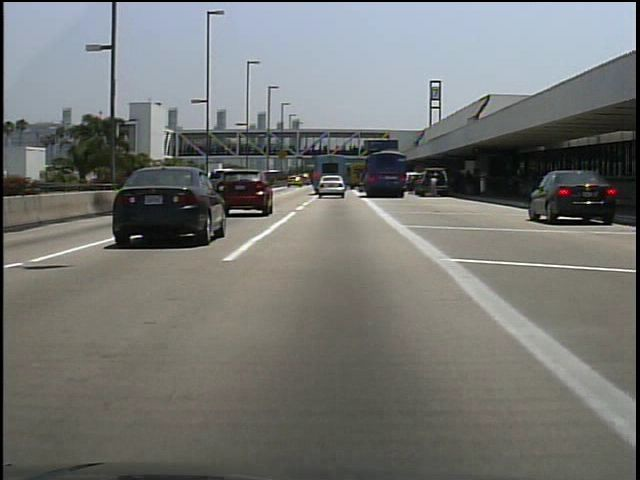person: (459, 166, 475, 201), (428, 172, 441, 200)
